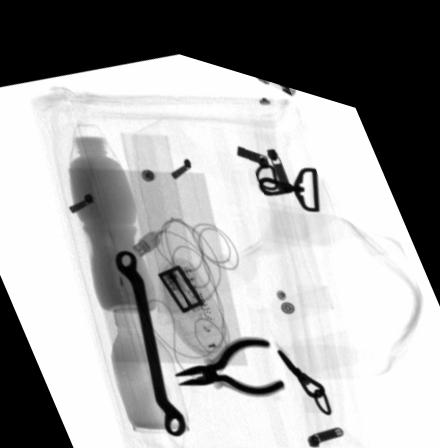Pliers: (175, 320, 286, 382)
Wrench: (115, 243, 186, 425)
